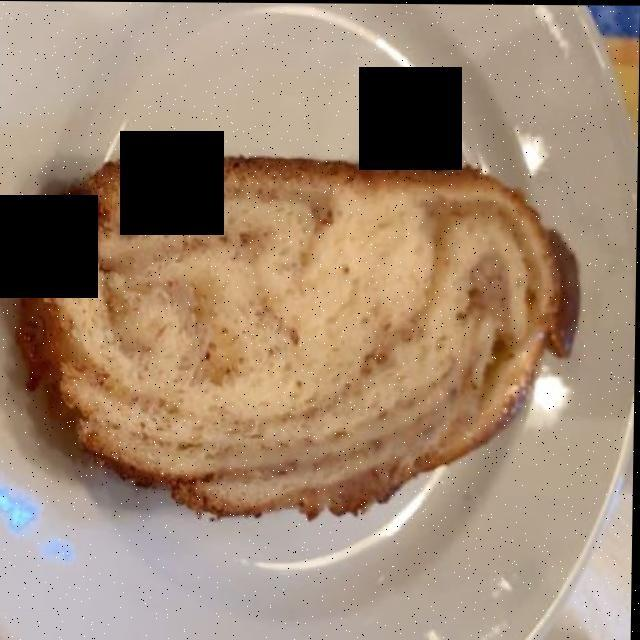cake: (33, 158, 568, 513)
